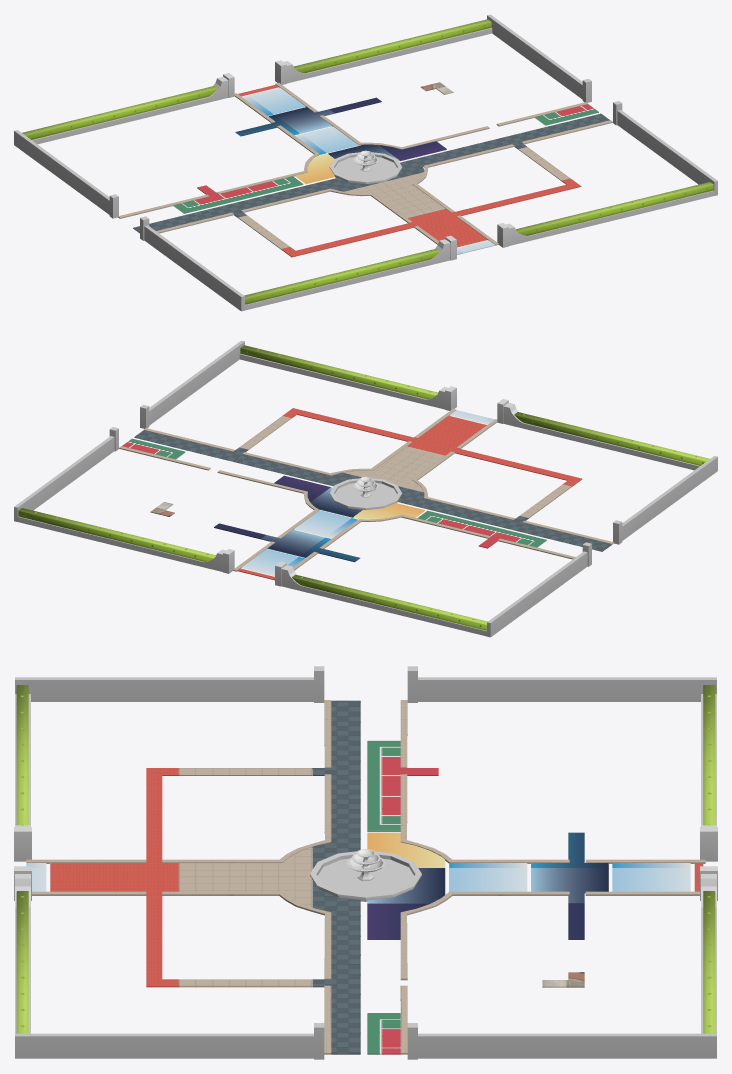
Rendered from Taman.fbx.
3 renders of one model, top to bottom at view 1: azimuth 30°, elevation 25°; view 2: azimuth 150°, elevation 25°; view 3: azimuth 270°, elevation 25°, orthographic. The views are drawn at different scales.
Visible parts, largest first — view 1: JalanSetapak, Plane.051, Plane.004, Plane.005, JalanSetapak2, Pancuran3, Plane.015, Plane.007; view 2: JalanSetapak, Plane.051, Plane.004, Plane.005, JalanSetapak2, Pancuran3, Plane.015, Plane.007; view 3: JalanSetapak, Plane.004, JalanSetapak2, Plane.051, Pancuran3, Plane.005, Plane.015, Plane.007, Pancuran2.
Part boxes in pixels (x1,y1,x2,y2): JalanSetapak: [133, 82, 609, 257]; Plane.051: [22, 19, 713, 304]; Plane.004: [14, 14, 717, 311]; Plane.005: [32, 28, 714, 310]; JalanSetapak2: [118, 83, 612, 245]; Pancuran3: [329, 152, 402, 184]; Plane.015: [223, 60, 508, 260]; Plane.007: [109, 78, 622, 240]; JalanSetapak: [122, 408, 611, 580]; Plane.051: [18, 345, 709, 630]; Plane.004: [14, 340, 717, 637]; Plane.005: [17, 354, 699, 636]; JalanSetapak2: [119, 409, 613, 571]; Pancuran3: [329, 478, 402, 509]; Plane.015: [223, 386, 508, 586]; Plane.007: [109, 404, 622, 566]; JalanSetapak: [26, 700, 703, 1054]; Plane.004: [15, 677, 716, 1058]; JalanSetapak2: [26, 700, 705, 1054]; Plane.051: [16, 685, 715, 1033]; Pancuran3: [310, 851, 421, 901]; Plane.005: [15, 694, 716, 1033]; Plane.015: [14, 827, 717, 900]; Plane.007: [314, 666, 417, 1059]; Pancuran2: [346, 849, 385, 872].
Bounding box in the file's own units: 12583 × 519 × 10367.
